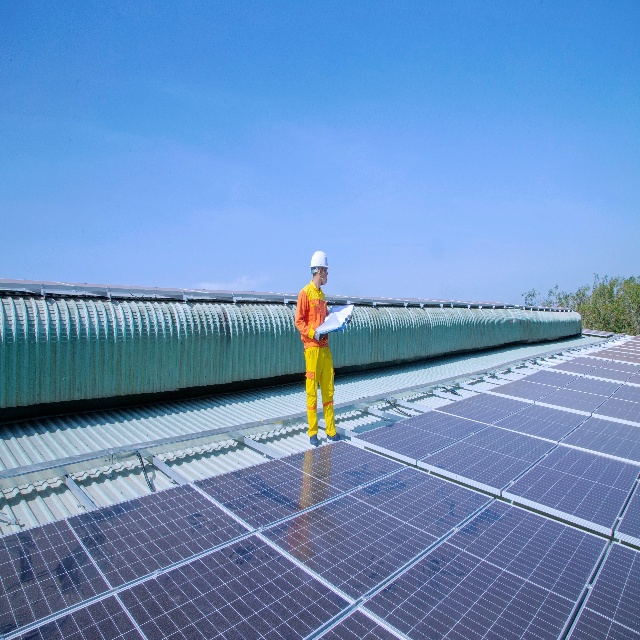Guantes: (313, 329, 326, 342), (347, 312, 353, 323)
